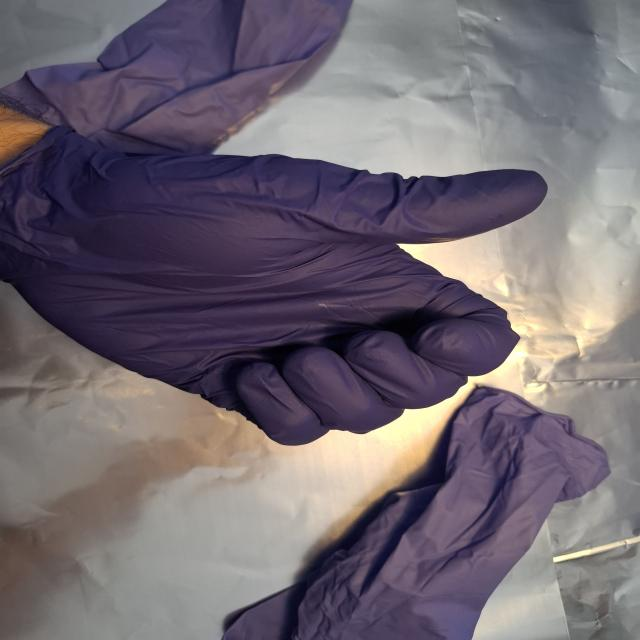glove_on: (2, 120, 556, 450)
